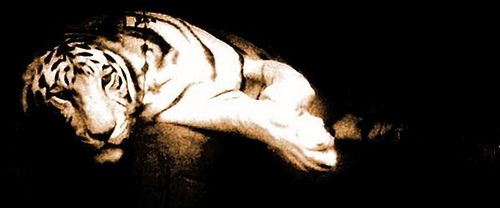Tigre: (8, 34, 163, 175)
